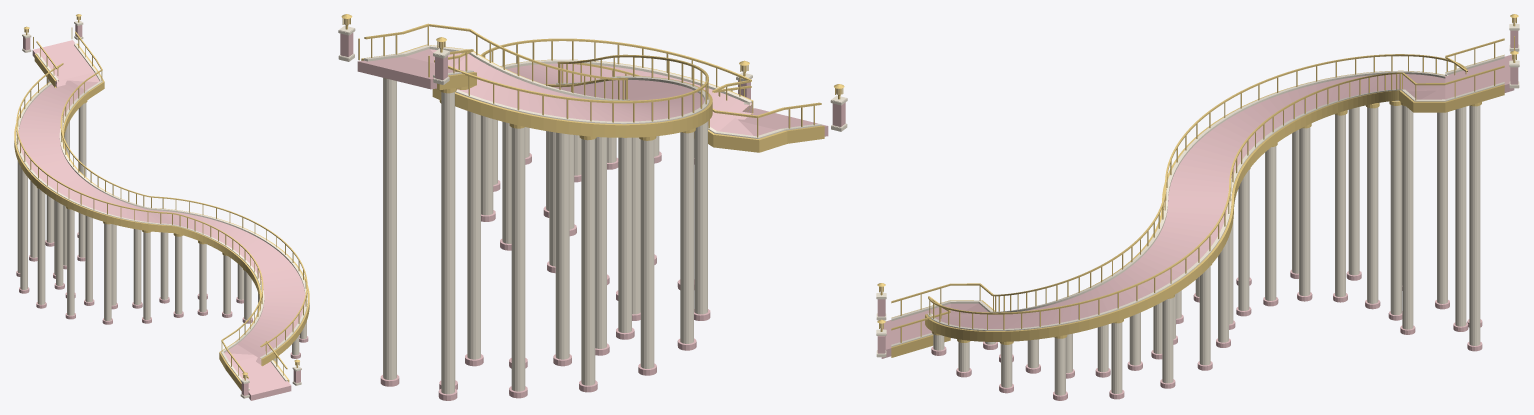
Rendered from HOB_SpiralRamp_15m.fbx.
The picture shows the model from 3 angles, left to right: view 1: azimuth 30°, elevation 25°; view 2: azimuth 150°, elevation 25°; view 3: azimuth 270°, elevation 25°; orthographic projection. The views are drawn at different scales.
Parts seen in each view (by area): view 1: HOB_SpiralRamp_15m; view 2: HOB_SpiralRamp_15m; view 3: HOB_SpiralRamp_15m.
Part boxes in pixels (box(x1,y1,x2,y2)): HOB_SpiralRamp_15m: box(14, 14, 309, 400); HOB_SpiralRamp_15m: box(338, 14, 847, 400); HOB_SpiralRamp_15m: box(876, 14, 1519, 400).
Bounding box in the file's own units: 1564 × 1742 × 3252.
